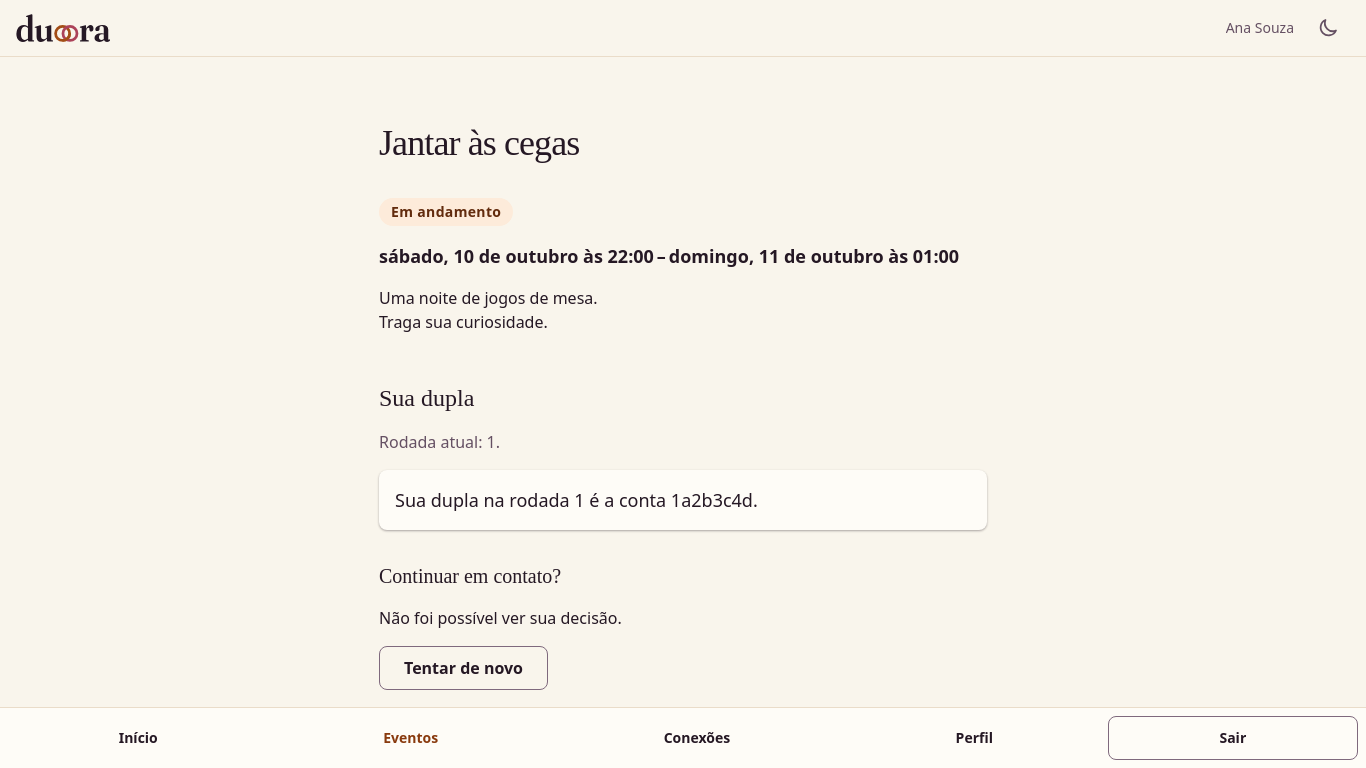
Scenario: private decision after a round › offers to try again when the own decision could not be read
Expected: the text "Sua dupla na rodada 1 é a conta 1a2b3c4d." is shown, [379,470,987,530]
Expected: the text "Não foi possível ver sua decisão." is shown, [379,606,622,630]
Click the button "Tentar de novo": (464, 668) [379,646,548,690]
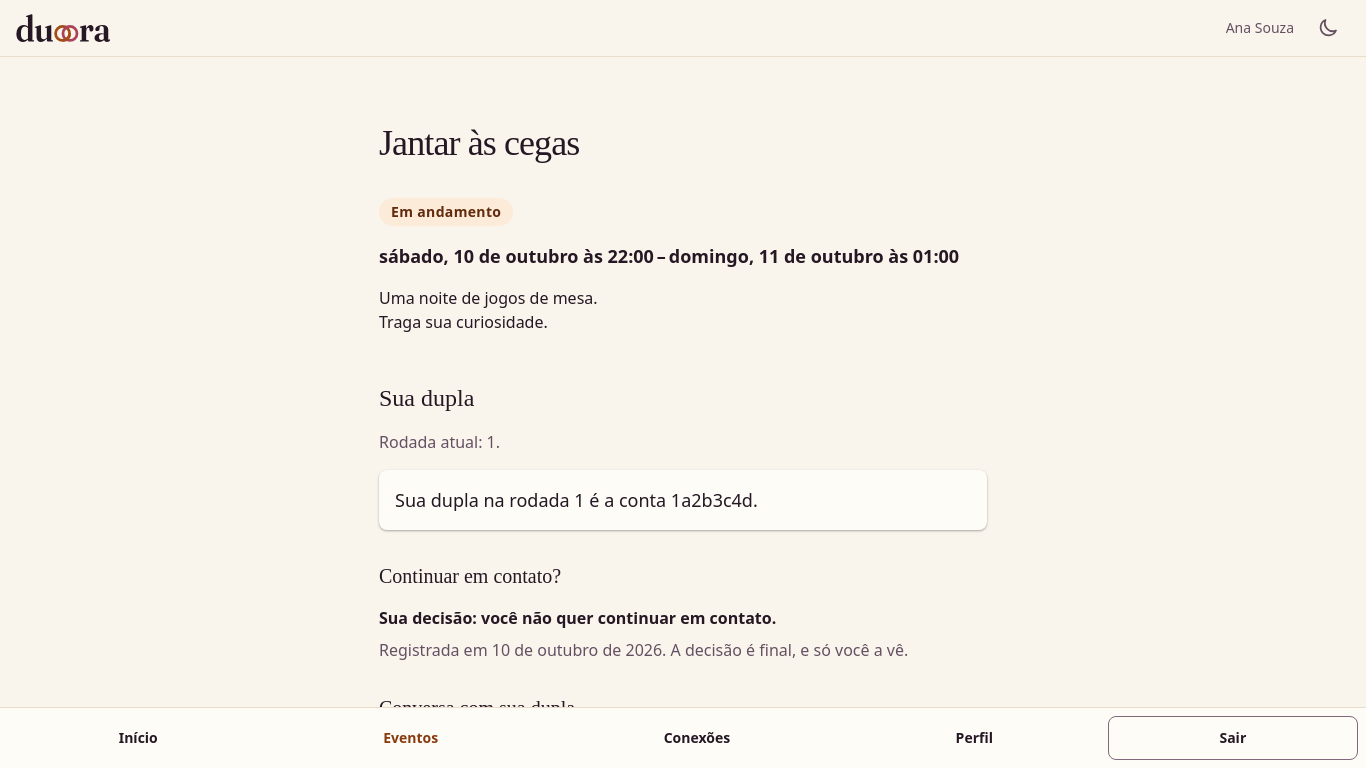
Expected: the text "Sua decisão: você não quer continuar em contato." is shown, [379,606,776,630]
